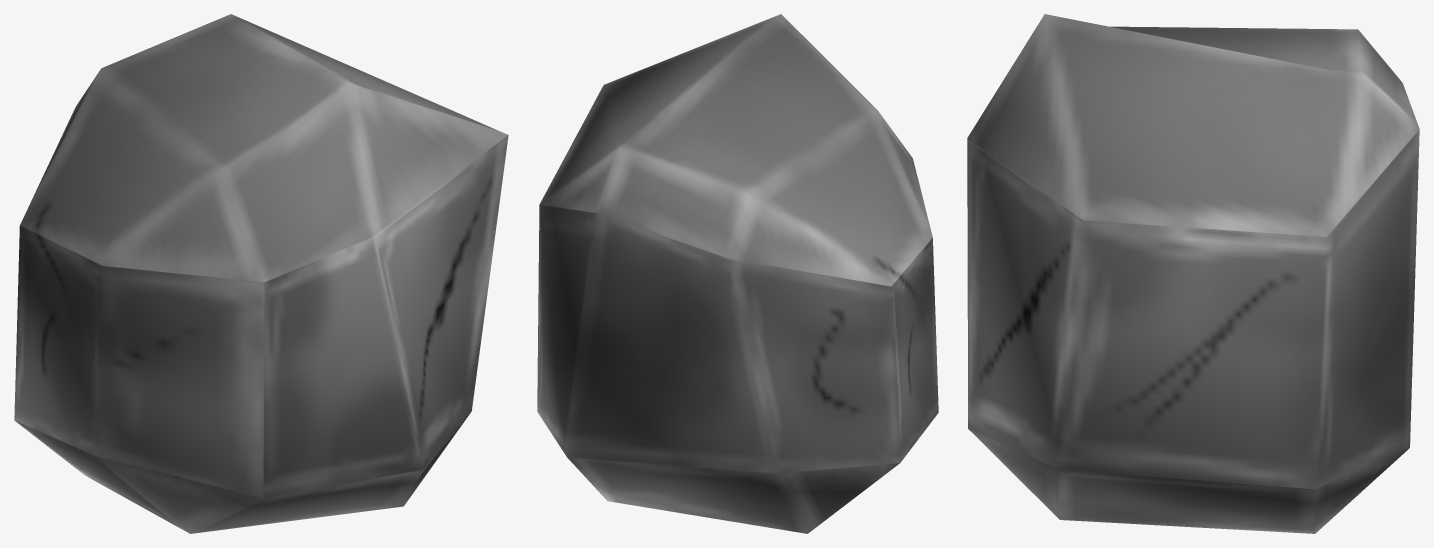
File: SM_Rock_12.fbx
The picture shows the model from 3 angles, left to right: view 1: azimuth 30°, elevation 25°; view 2: azimuth 150°, elevation 25°; view 3: azimuth 270°, elevation 25°; orthographic projection. The views are drawn at different scales.
Visible parts, largest first — view 1: Roca 12; view 2: Roca 12; view 3: Roca 12.
Part boxes in pixels (x1=…): Roca 12: x1=14, y1=14, x2=508, y2=533; Roca 12: x1=537, y1=14, x2=938, y2=533; Roca 12: x1=967, y1=14, x2=1419, y2=533.
Bounding box in the file's own units: 2.3 × 2.43 × 2.05.
Materials: 1 (1 with a texture image).
